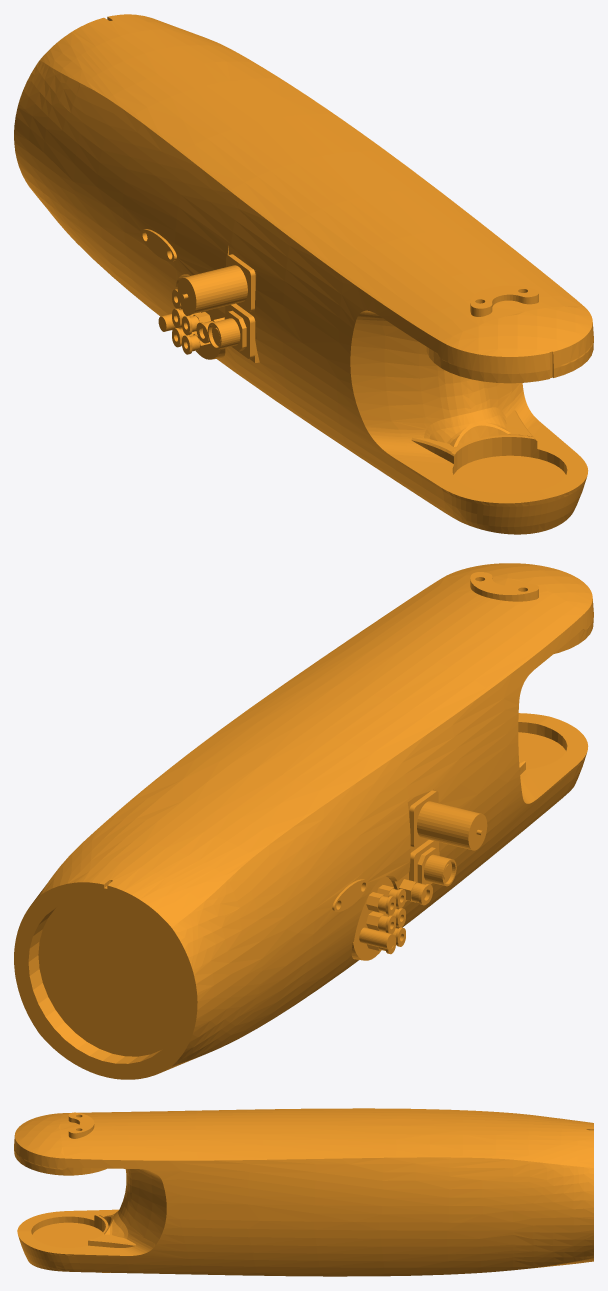
The model's file is KukaAgilusKRLink4.dae.
3 renders of one model, top to bottom at view 1: azimuth 30°, elevation 25°; view 2: azimuth 150°, elevation 25°; view 3: azimuth 270°, elevation 25°, orthographic. The views are drawn at different scales.
Visible parts, largest first — view 1: KUKAKRLink4; view 2: KUKAKRLink4; view 3: KUKAKRLink4.
Boxes of the visible parts, <box> form: KUKAKRLink4: <box>14,14,593,534</box>; KUKAKRLink4: <box>14,563,593,1079</box>; KUKAKRLink4: <box>14,1108,593,1276</box>.
Size of the model in its own units: 0.1427 by 0.4504 by 0.1245.
